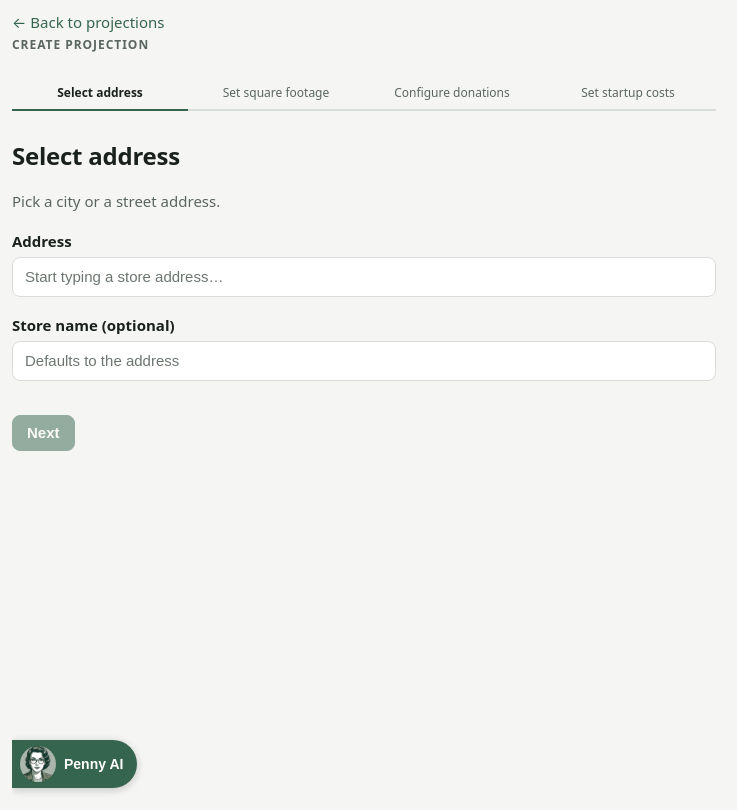
Scenario: CreateProjectionPage — Places predictions render › shows address predictions in the combobox list
Type "Dallas" into the dropdown labelled "Address".
click(364, 277); type("Dallas")  # box [12,257,716,297]
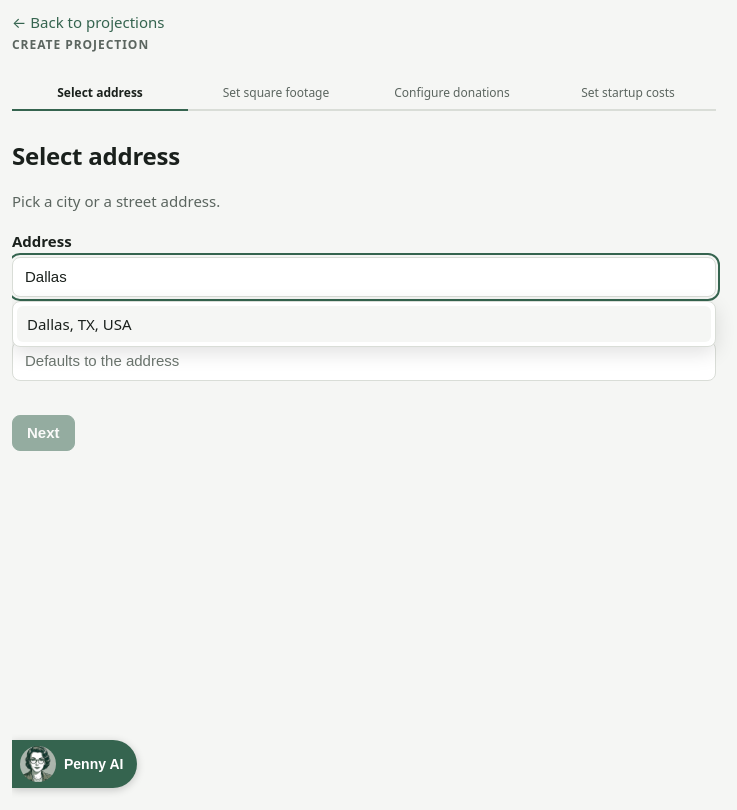
Check: the option "Dallas, TX, USA" is shown, box [17,306,711,342]
